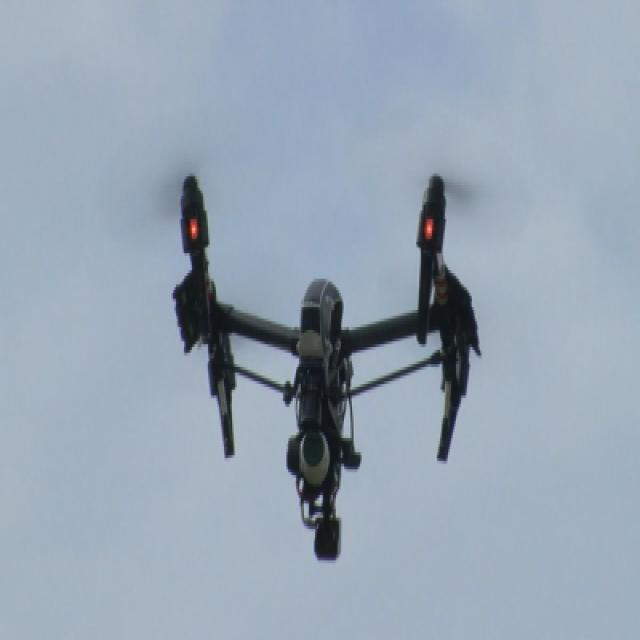drone: (122, 142, 512, 562)
